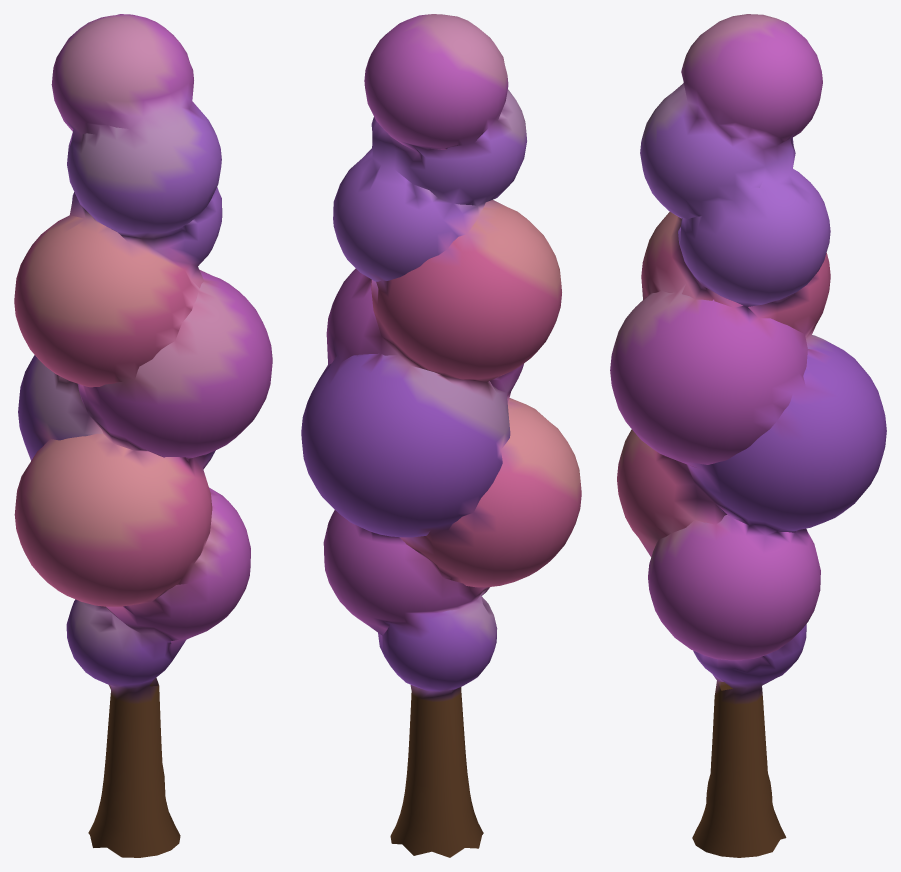
Rendered from tall-tree-103-lod1.obj.
3 views of the same model, side by side, from view 1: azimuth 30°, elevation 25°; view 2: azimuth 150°, elevation 25°; view 3: azimuth 270°, elevation 25° (orthographic).
Visible parts, largest first — view 1: simplified; view 2: simplified; view 3: simplified.
Boxes of the visible parts, x1=… form: simplified: x1=14, y1=14, x2=272, y2=857; simplified: x1=301, y1=14, x2=581, y2=857; simplified: x1=610, y1=14, x2=886, y2=857.
Size of the model in its own units: 209 by 711 by 219.
